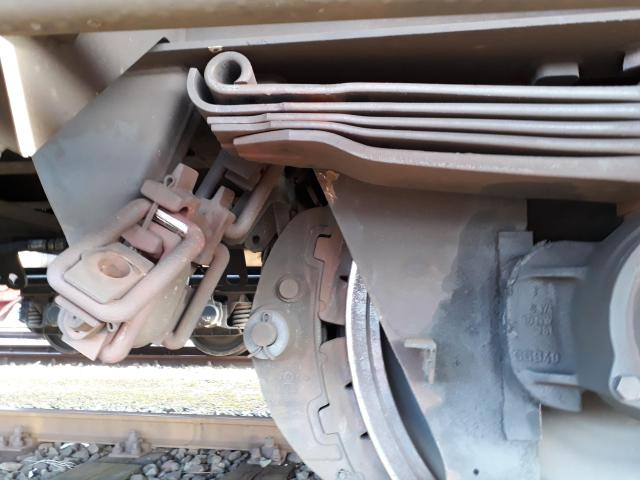blattfederww: (177, 46, 640, 181)
